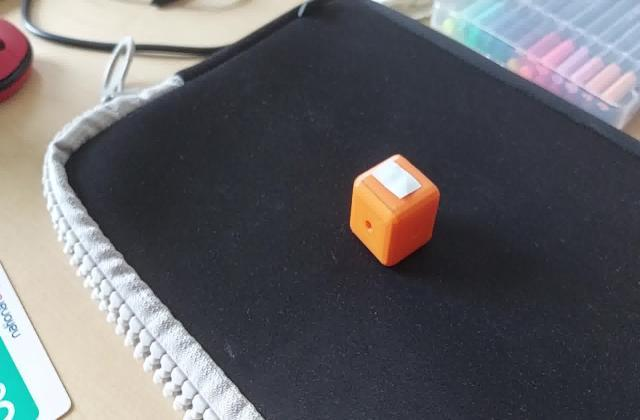sticker: (346, 154, 440, 270)
white: (378, 169, 423, 201)
